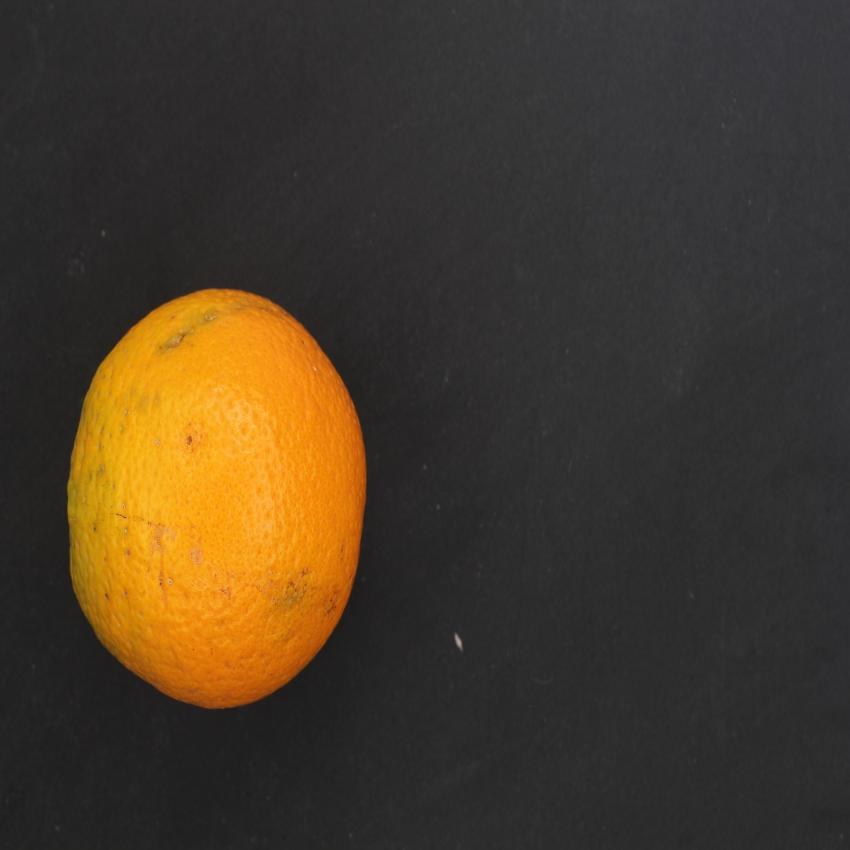Buen estado: (55, 280, 389, 726)
